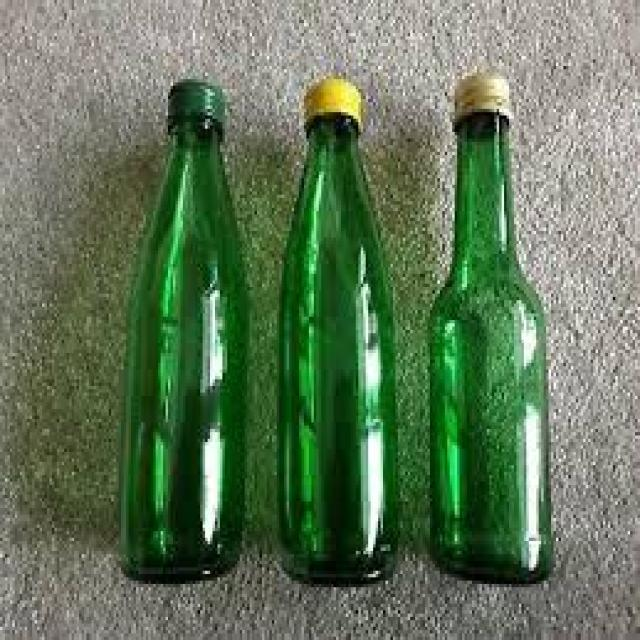glass: (119, 119, 247, 581), (425, 112, 551, 581), (277, 119, 395, 584)
metal: (163, 73, 220, 129), (301, 76, 361, 122), (450, 69, 509, 112)
